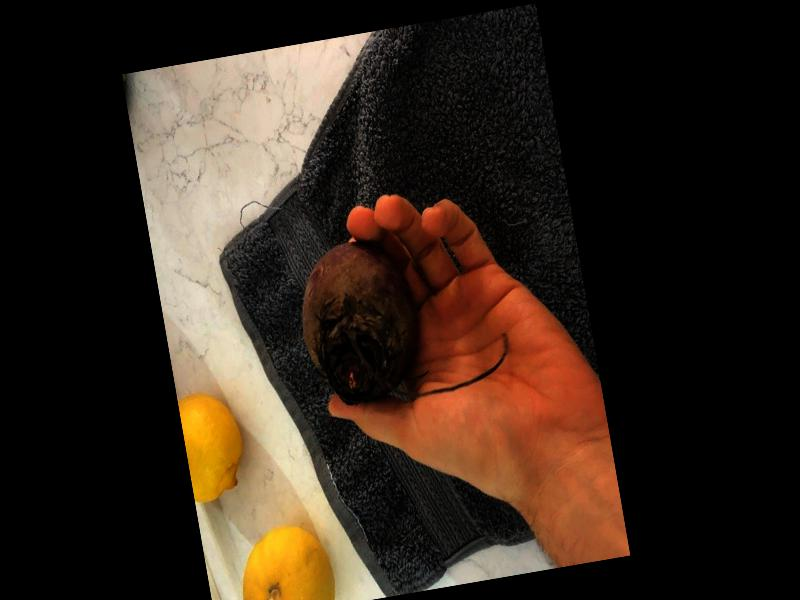Beet: (288, 216, 513, 410)
